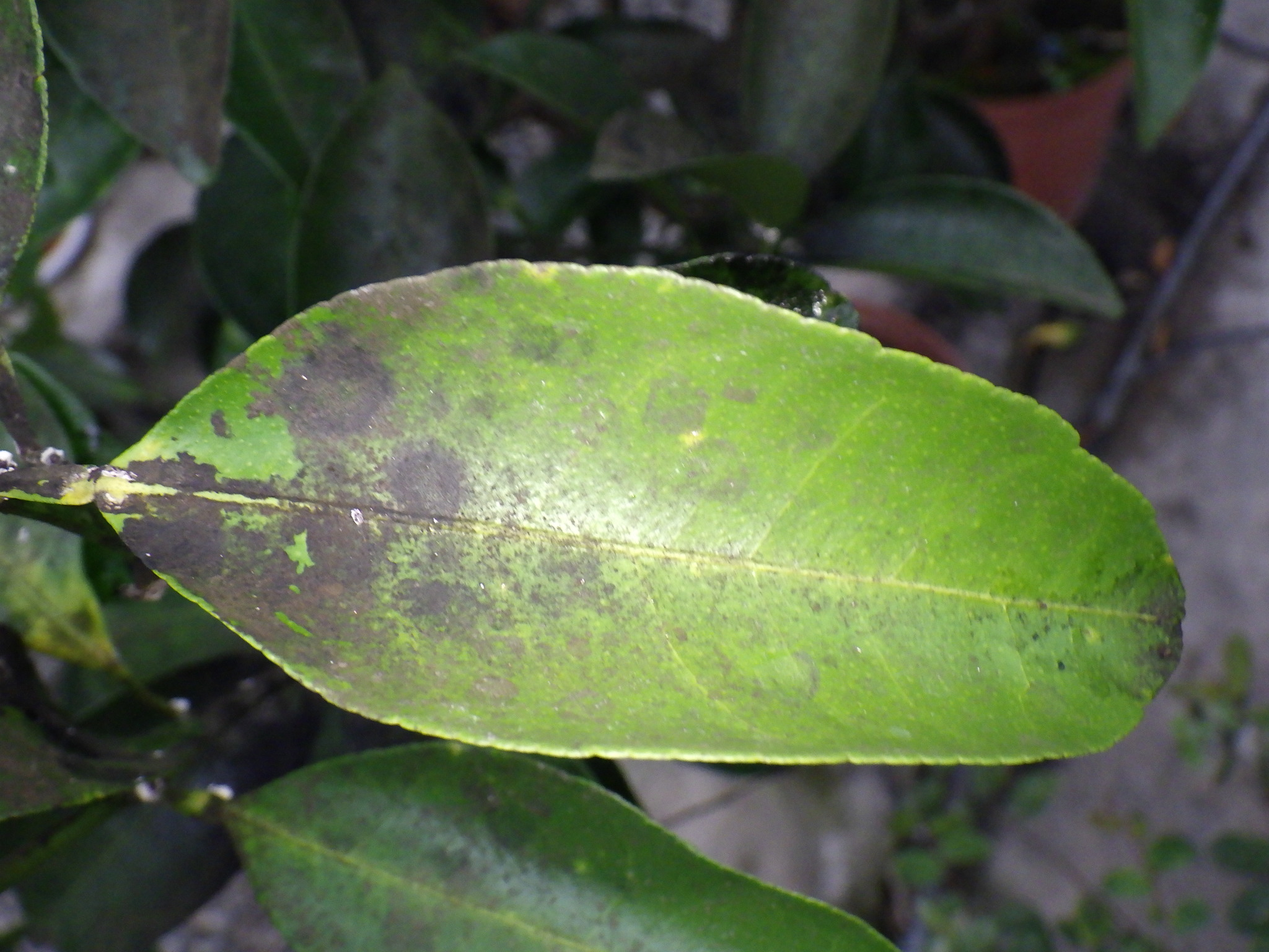Sooty_Mold: (95, 261, 1182, 762)
